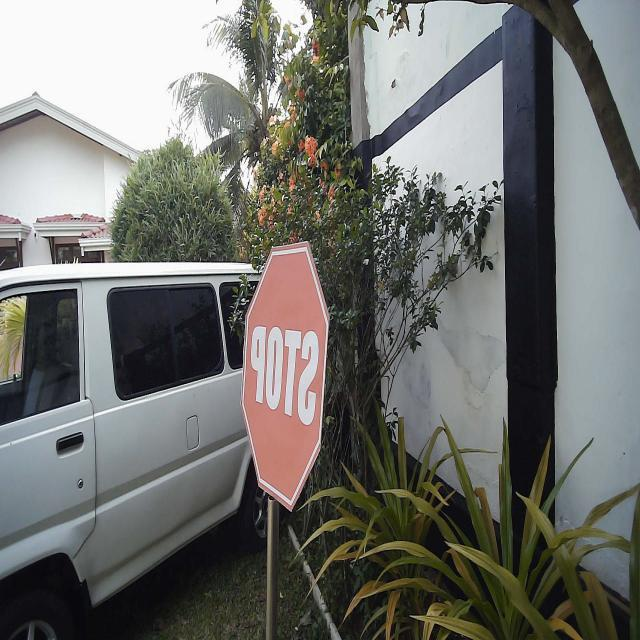stop: (238, 237, 332, 518)
